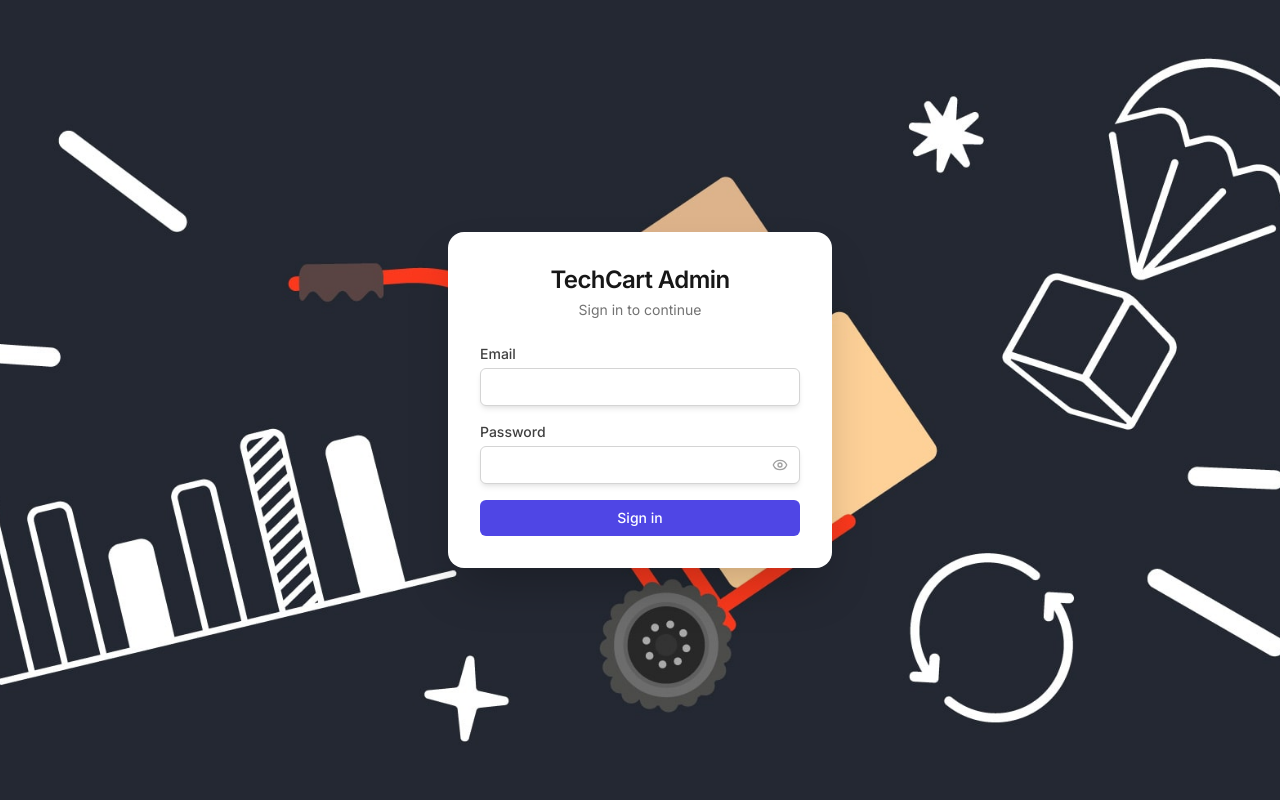
SignInContent › clears the stored 2FA challenge when the user starts over
Step 1. Type "admin@example.com" into the field labelled "Email" → coordinates (640, 387), box [480,368,800,406]
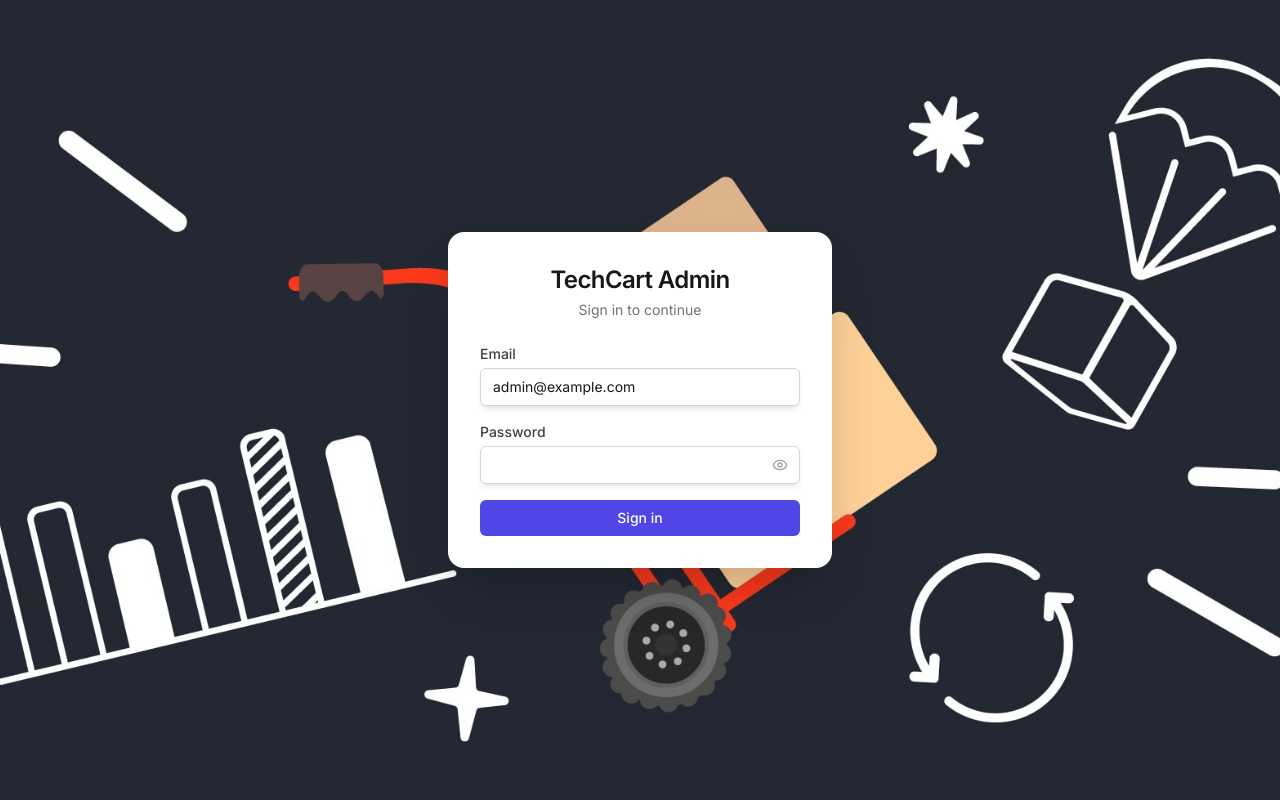
Step 2. Type "correct-password" into the password field labelled "Password" → coordinates (640, 465), box [480,446,800,484]
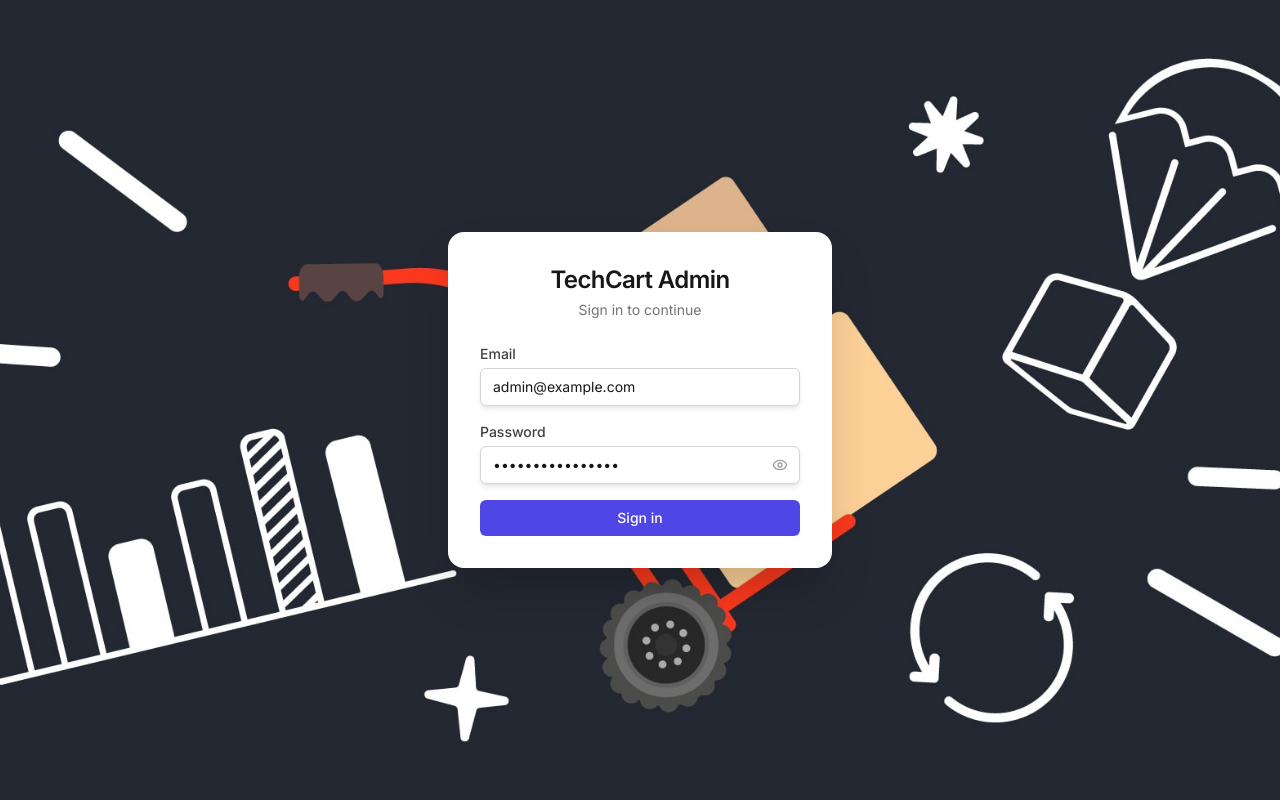
Step 3. Click the button "Sign in" → coordinates (640, 518), box [480,500,800,536]
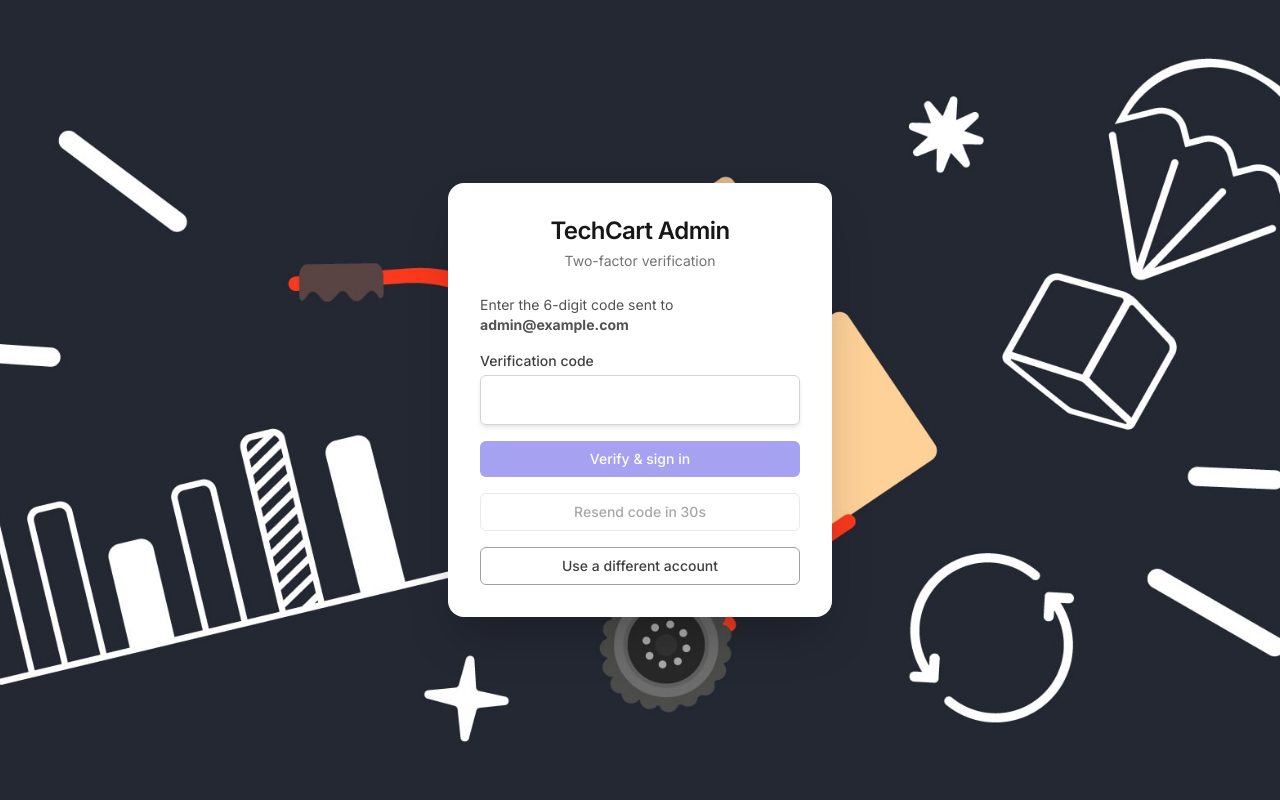
Now the field labelled "Verification code" is shown, box [480,375,800,425]
Step 4. Click the button "Use a different account" → coordinates (640, 566), box [480,547,800,585]
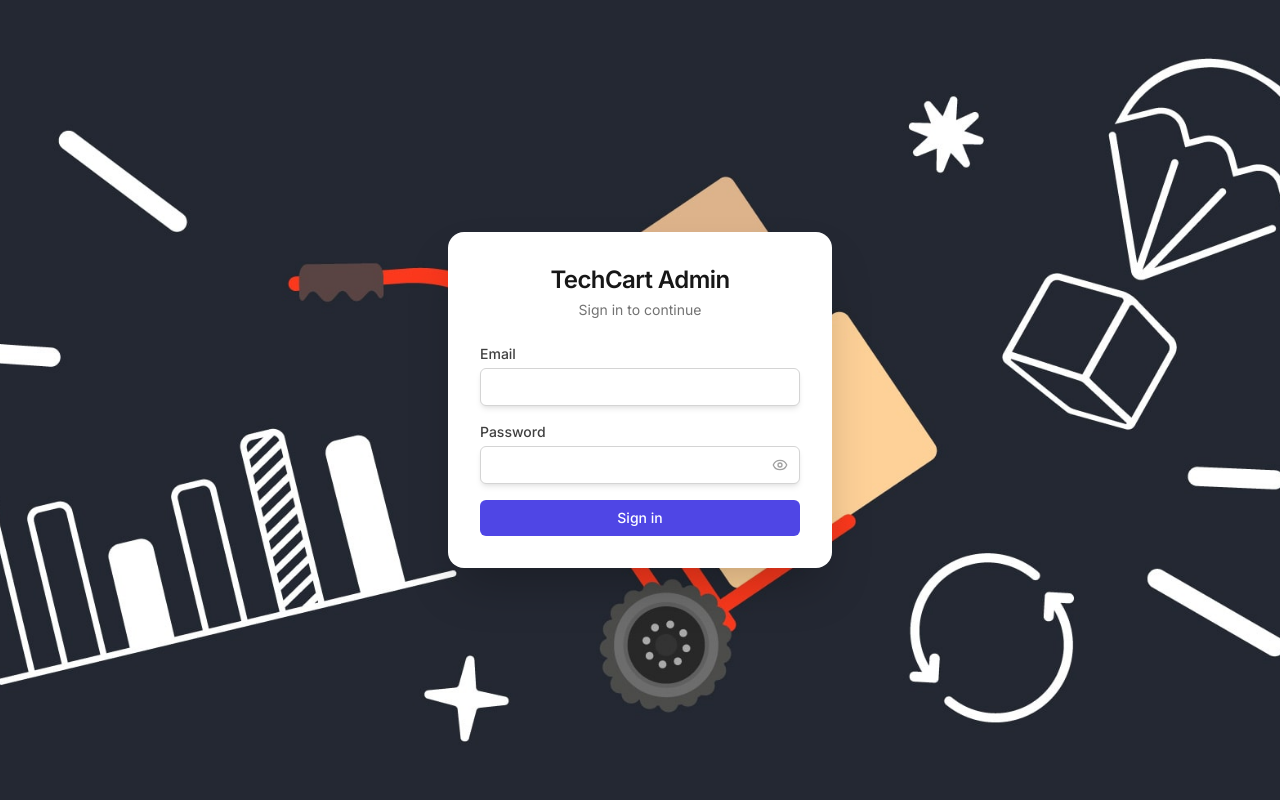
Now the password field labelled "Password" is shown, box [480,446,800,484]
